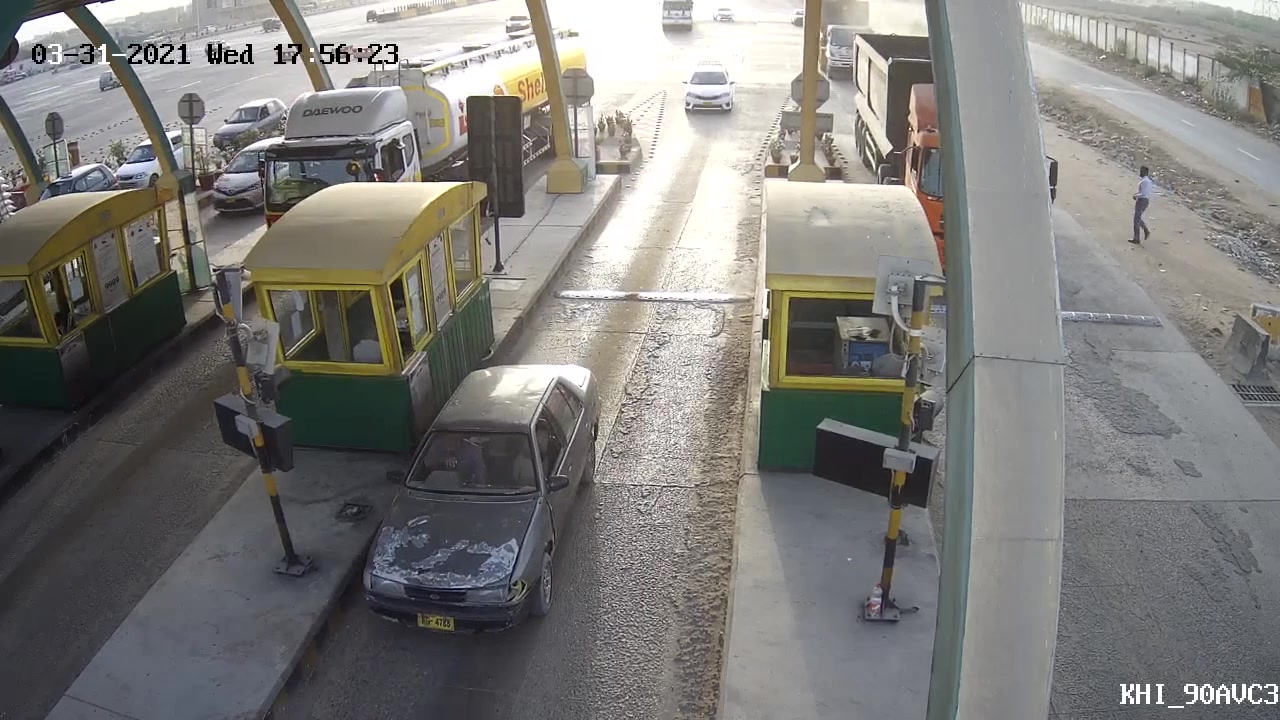F1: (347, 361, 605, 636)
